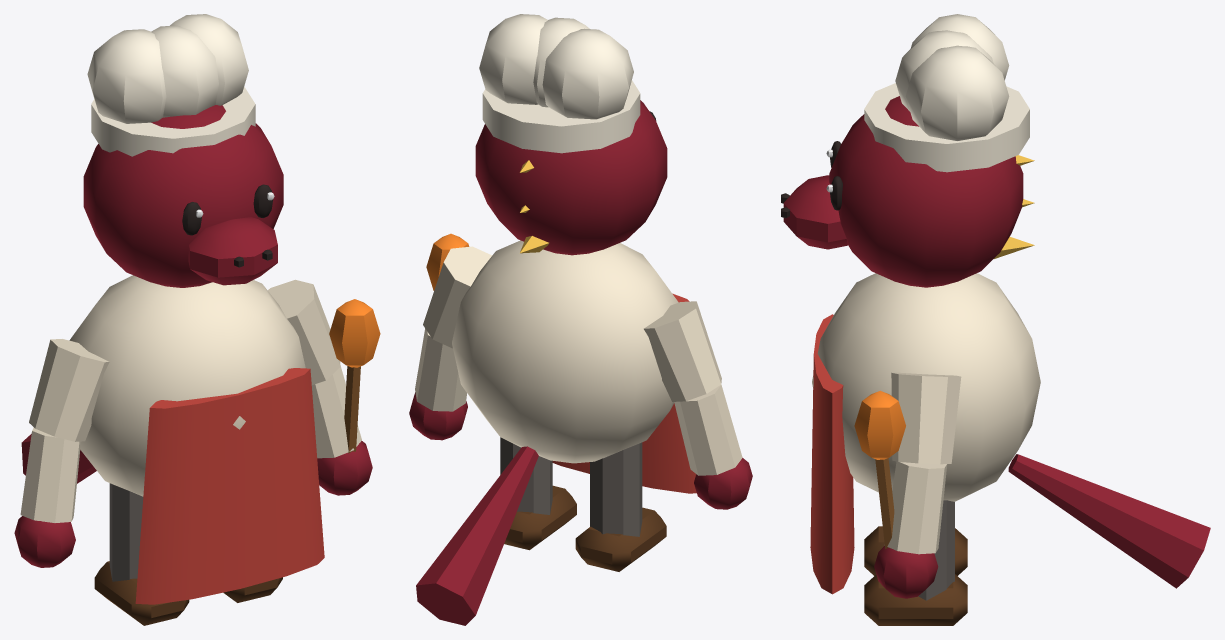
The model's file is CH_Staff_10_Ignis.fbx.
3 renders of one model, left to right at view 1: azimuth 30°, elevation 25°; view 2: azimuth 150°, elevation 25°; view 3: azimuth 270°, elevation 25°, orthographic. The views are drawn at different scales.
Parts seen in each view (by area): view 1: CH_Staff_10_Ignis; view 2: CH_Staff_10_Ignis; view 3: CH_Staff_10_Ignis.
Part boxes in pixels (x1,y1,x2,y2): CH_Staff_10_Ignis: (14, 14, 380, 625); CH_Staff_10_Ignis: (409, 14, 752, 625); CH_Staff_10_Ignis: (781, 14, 1210, 625).
Bounding box in the file's own units: 0.7912 × 1.19 × 0.8296.
Materials: 1 (1 with a texture image).
